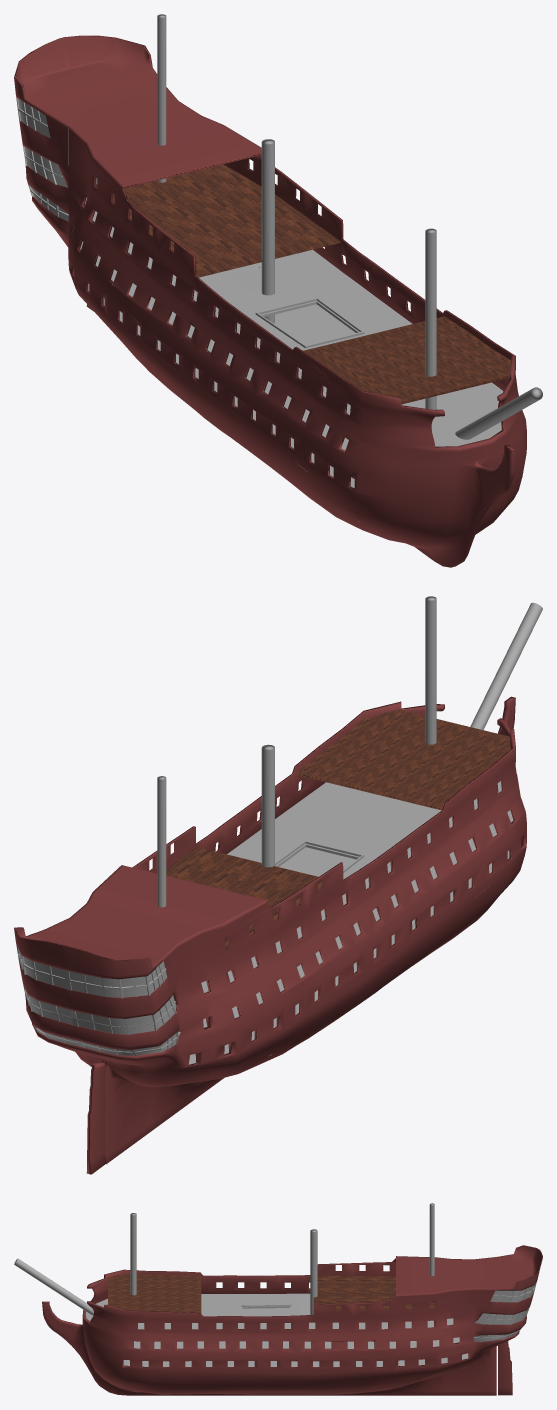
File: fase_9_HMS_Victory.fbx
3 renders of one model, top to bottom at view 1: azimuth 30°, elevation 25°; view 2: azimuth 150°, elevation 25°; view 3: azimuth 270°, elevation 25°, orthographic. The views are drawn at different scales.
Parts seen in each view (by area): view 1: ShipHull10, Quater_Deck, First_Gun_Deck, Second_Gun_Deck, Main_Mast, Voor_Mast, Windows, Vlag_Mast, Voorsteven_Mast; view 2: ShipHull10, Quater_Deck, First_Gun_Deck, Windows, Second_Gun_Deck, Voorsteven_Mast, Voor_Mast, Main_Mast, Vlag_Mast; view 3: ShipHull10, Quater_Deck, First_Gun_Deck, Windows, Second_Gun_Deck, Voorsteven_Mast, MidShips_Deck, Main_Mast, Voor_Mast, Vlag_Mast.
Part boxes in pixels (x1,y1,x2,y2): ShipHull10: (14,35,526,567); Quater_Deck: (96,164,510,404); First_Gun_Deck: (85,197,503,446); Second_Gun_Deck: (80,241,355,450); Main_Mast: (261,139,274,323); Voor_Mast: (425,228,436,409); Windows: (16,97,68,221); Vlag_Mast: (157,14,166,182); Voorsteven_Mast: (455,387,542,439); ShipHull10: (14,696,526,1174); Quater_Deck: (166,709,515,949); First_Gun_Deck: (201,781,501,992); Windows: (16,945,180,1056); Second_Gun_Deck: (203,810,513,1027); Voorsteven_Mast: (470,602,542,729); Voor_Mast: (425,596,436,744); Main_Mast: (261,744,274,867); Vlag_Mast: (157,776,166,907); ShipHull10: (42,1245,542,1395); Quater_Deck: (108,1273,435,1313); First_Gun_Deck: (86,1293,453,1329); Windows: (473,1282,536,1342); Second_Gun_Deck: (134,1308,459,1348); Voorsteven_Mast: (14,1258,93,1315); MidShips_Deck: (123,1353,468,1366); Main_Mast: (310,1229,317,1314); Voor_Mast: (130,1213,136,1295); Vlag_Mast: (429,1203,434,1276).
Size of the model in its own units: 15.91 by 28.8 by 72.5.
